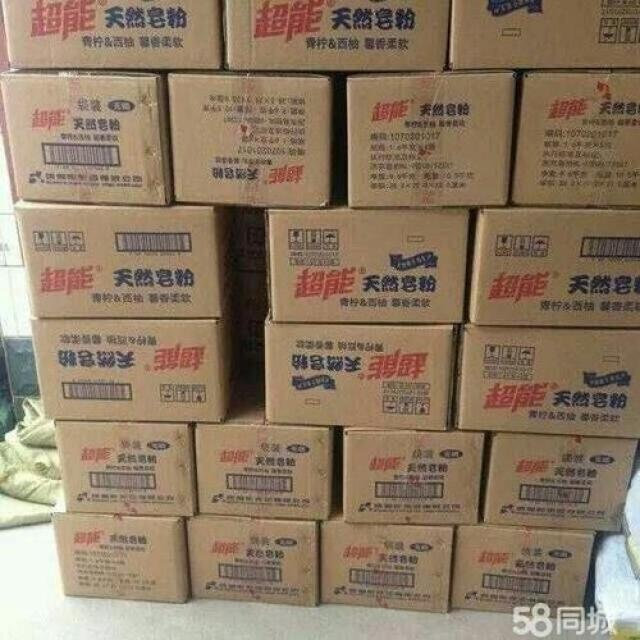box: (31, 282, 244, 421), (263, 183, 469, 323), (15, 197, 237, 317), (0, 70, 174, 205), (264, 311, 455, 432), (165, 71, 334, 207), (347, 72, 513, 205), (193, 369, 335, 520), (454, 326, 639, 438), (468, 207, 639, 326), (510, 72, 639, 206), (223, 0, 450, 71), (483, 432, 639, 535), (2, 0, 223, 70), (53, 497, 192, 602), (322, 505, 454, 612), (451, 525, 594, 623), (343, 428, 485, 524), (56, 421, 198, 515), (450, 1, 639, 71), (184, 513, 323, 606)
